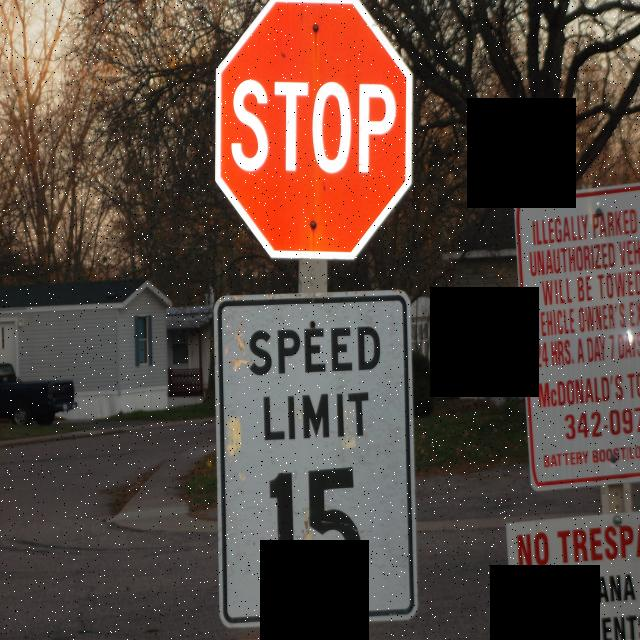regulatory: (216, 294, 418, 622), (510, 178, 640, 493)
stop: (215, 0, 414, 259)
